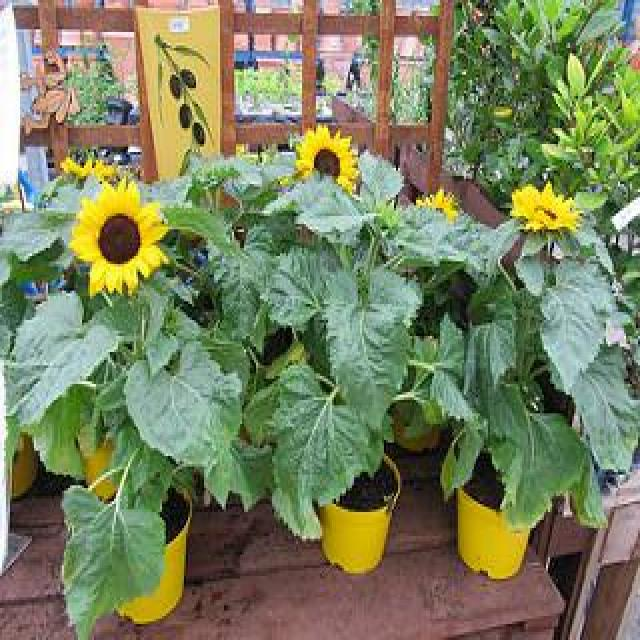sunflower: (70, 180, 166, 295), (295, 125, 359, 193), (510, 179, 578, 232), (418, 181, 456, 224), (63, 153, 111, 180)
